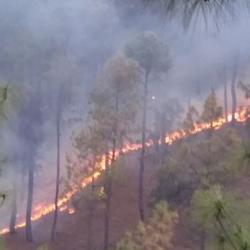fire: (227, 106, 243, 120), (97, 154, 109, 172), (194, 123, 213, 133), (34, 206, 54, 215), (123, 144, 145, 152), (59, 192, 68, 211)
